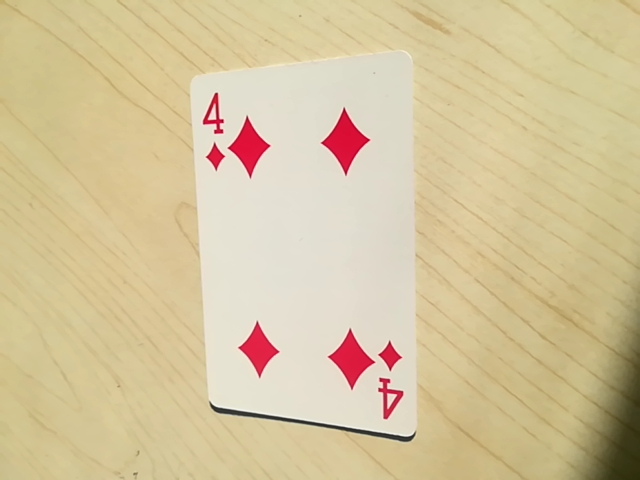fk 4: (377, 337, 414, 428), (197, 88, 228, 174)
